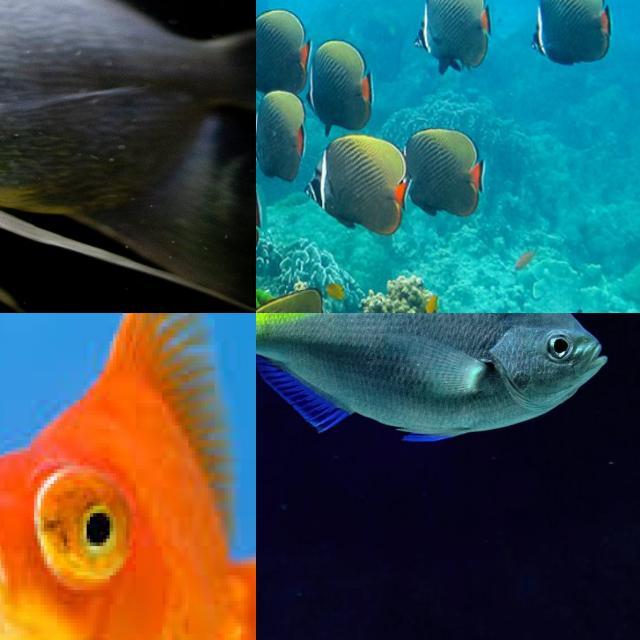fish: (256, 313, 640, 523), (0, 0, 256, 313), (100, 363, 256, 568)
